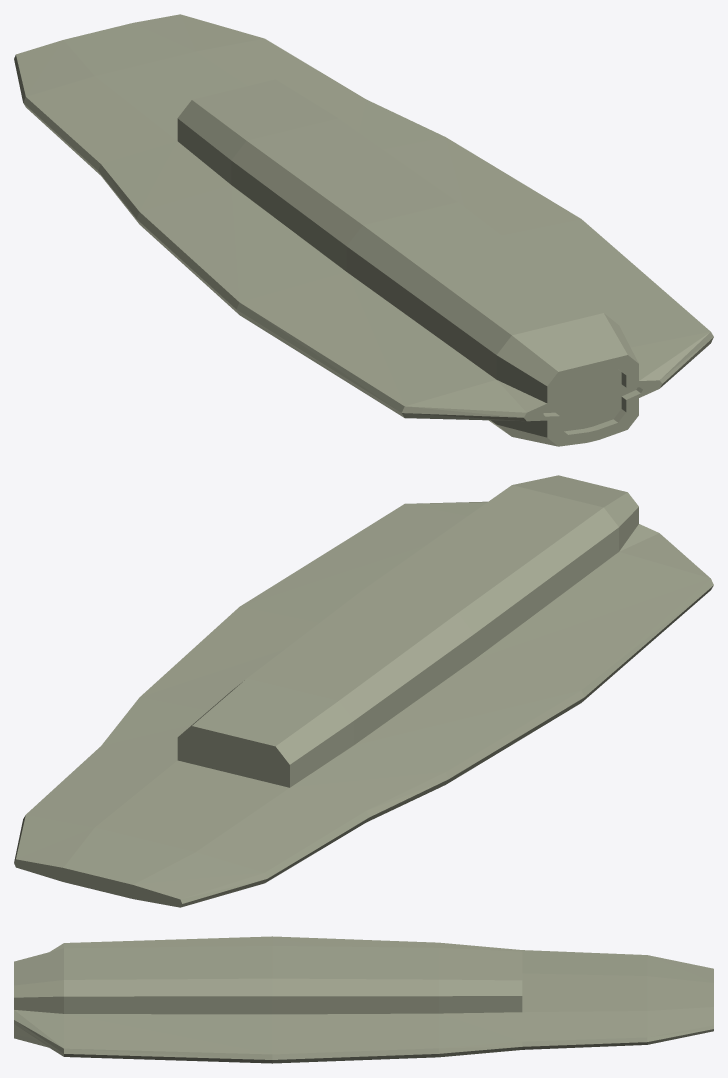
File: carrier.glb
3 views of the same model, one above another, from view 1: azimuth 30°, elevation 25°; view 2: azimuth 150°, elevation 25°; view 3: azimuth 270°, elevation 25° (orthographic). The views are drawn at different scales.
Parts seen in each view (by area): view 1: hull; view 2: hull; view 3: hull.
Part boxes in pixels (x1,y1,x2,y2): hull: (14,14,713,446); hull: (14,475,713,907); hull: (14,936,713,1063).
Bounding box in the file's own units: 68.2 × 22.6 × 168.
